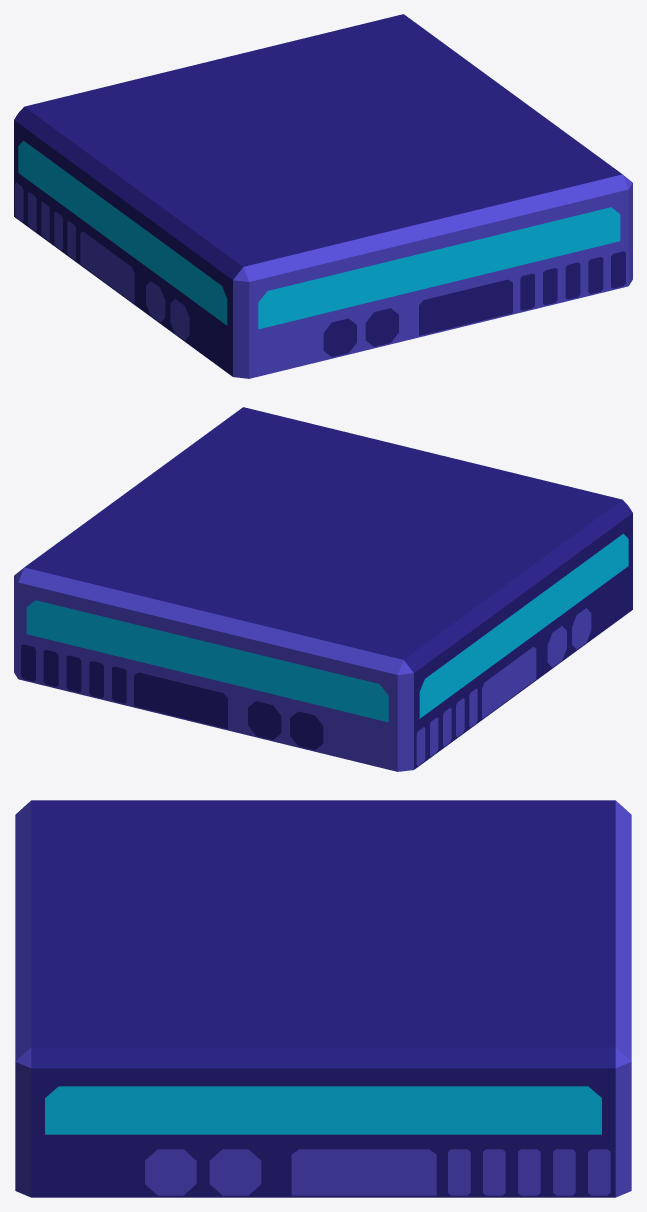
Rendered from Building_049_a.fbx.
3 views of the same model, one above another, from view 1: azimuth 30°, elevation 25°; view 2: azimuth 150°, elevation 25°; view 3: azimuth 270°, elevation 25° (orthographic). The views are drawn at different scales.
Parts seen in each view (by area): view 1: Building_049_a; view 2: Building_049_a; view 3: Building_049_a.
Part boxes in pixels (x1=…): Building_049_a: x1=14, y1=14, x2=632, y2=378; Building_049_a: x1=14, y1=407, x2=632, y2=771; Building_049_a: x1=15, y1=800, x2=631, y2=1197.
Bounding box in the file's own units: 16.15 × 4.13 × 16.15.
